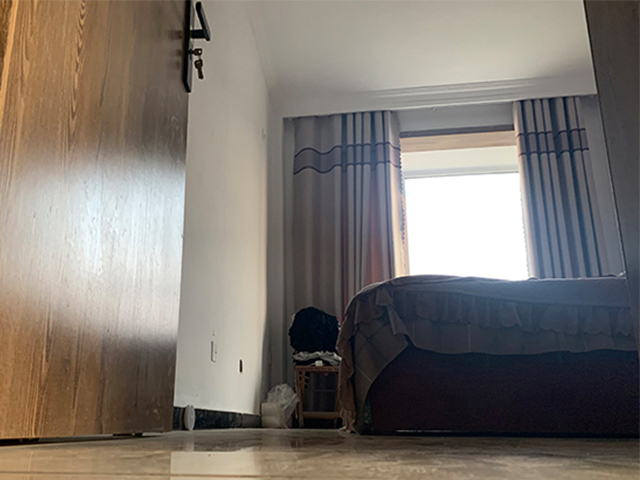bed: (333, 272, 640, 441)
curtain: (283, 105, 408, 315), (506, 93, 611, 287)
